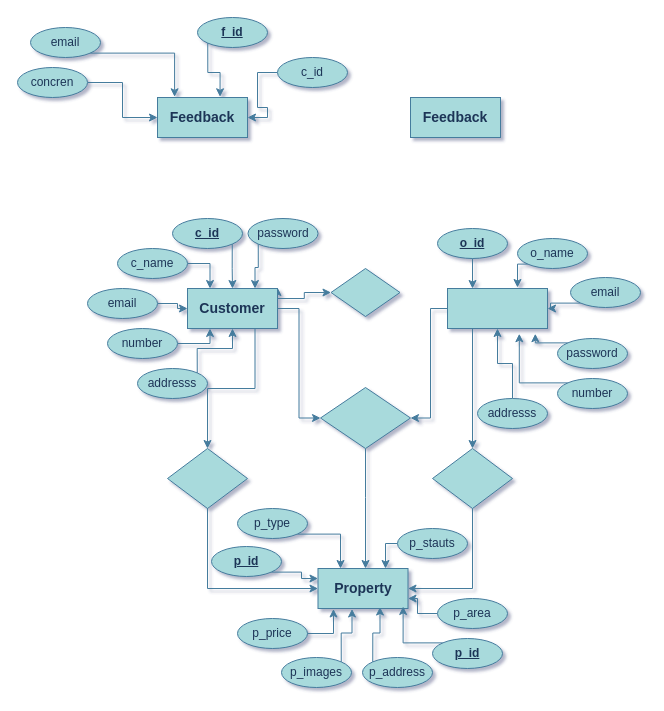
Some shapes in this 664 by 711 pixel diagram are drawn without their labels. Here are the shapes that lost their labels. From the top down, the centre of each, then its label:
(x=365, y=292): Gives
(x=497, y=308): Owner
(x=365, y=417): Buy/ Sell/Rent
(x=207, y=478): View
(x=472, y=478): Add
